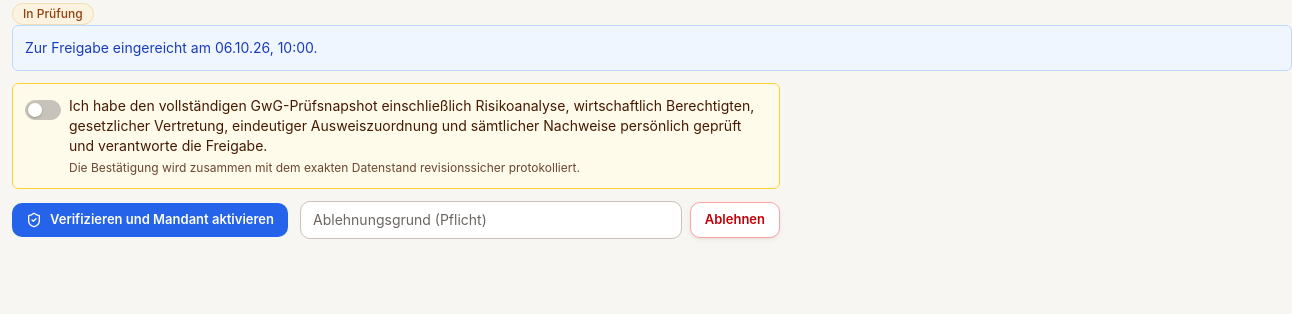
Test case: GwG-Entscheidungsanzeige › meldet abgelehnte Entscheidungen ohne Glocken- oder Statuswechsel
Step 1. Click the checkbox → (43, 110), box [25,100,61,120]
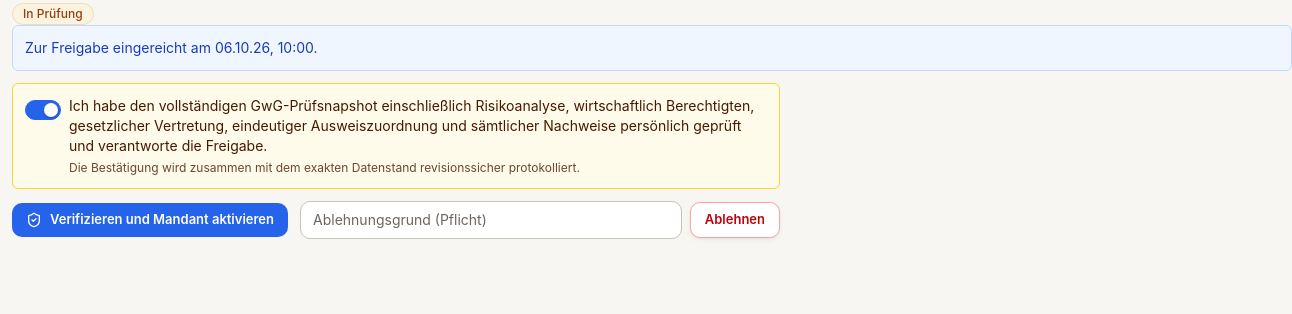
Step 2. Click the button "Verifizieren und Mandant aktivieren" → (150, 220), box [12,203,288,237]
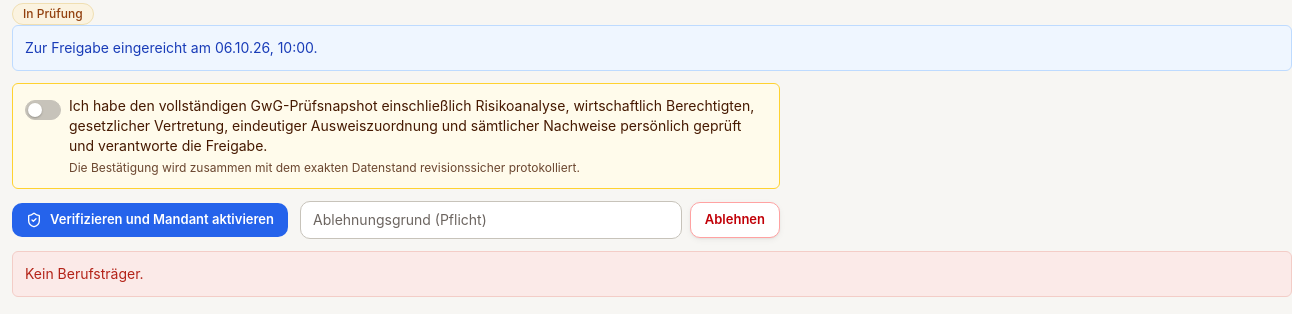
Expected: the text "In Prüfung" is shown, [12,3,94,25]
Now the message "Kein Berufsträger." is shown, box [12,251,1291,297]
